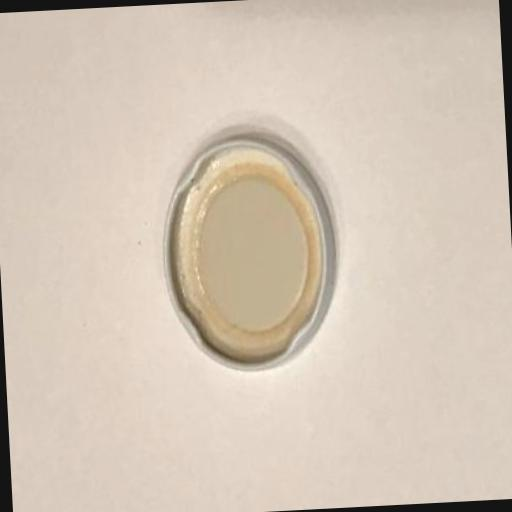metal: (156, 131, 342, 376)
